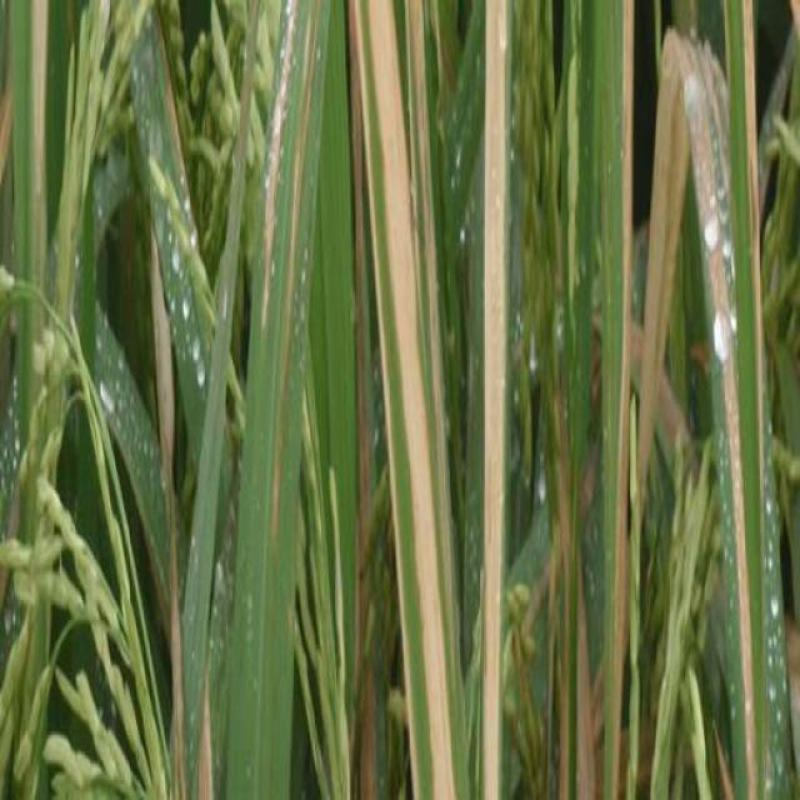Bacterial_Leaf_Blight: (350, 9, 542, 800), (152, 8, 312, 792), (634, 49, 748, 659)
